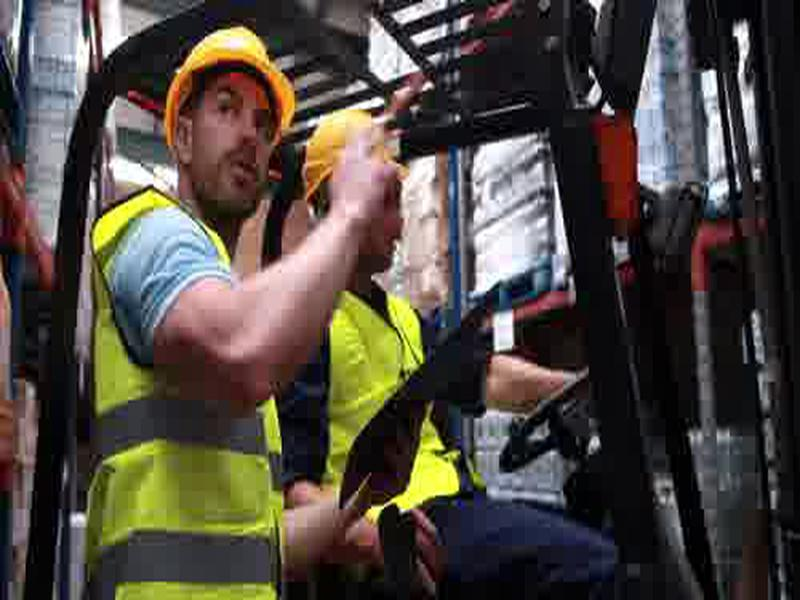hard-hat: (162, 25, 298, 160), (299, 107, 412, 210)
